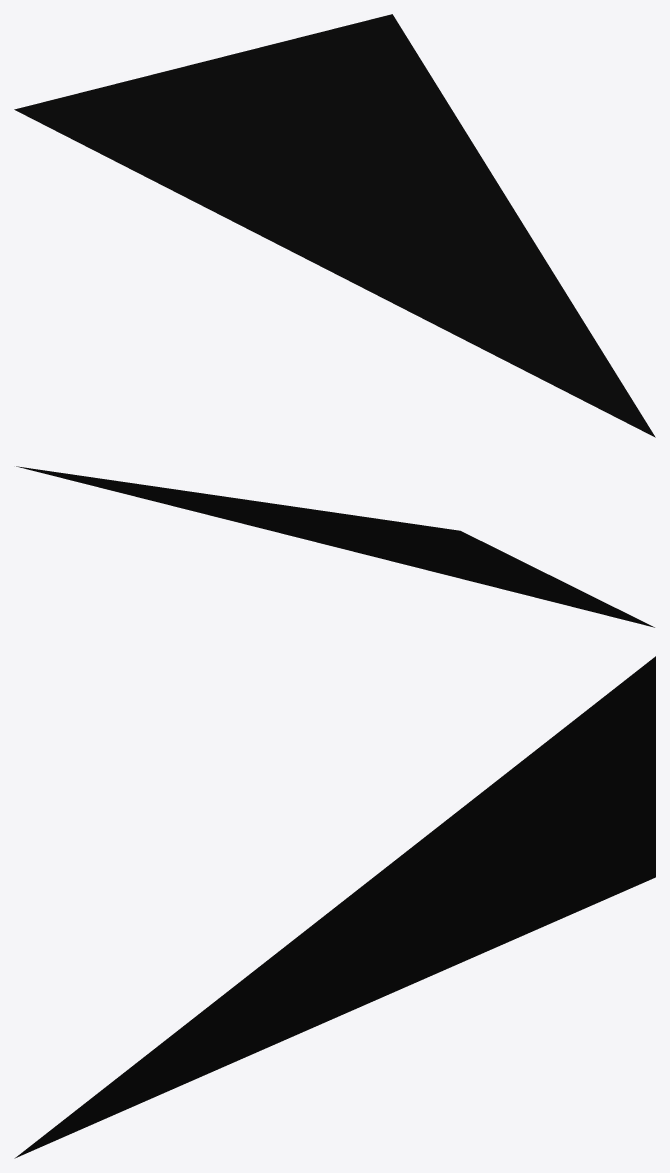
3 views of the same model, one above another, from view 1: azimuth 30°, elevation 25°; view 2: azimuth 150°, elevation 25°; view 3: azimuth 270°, elevation 25° (orthographic). The views are drawn at different scales.
Bounding box in the file's own units: 0.0212 × 0.0123 × 0.0255.
Materials: 1 (1 with a texture image).
